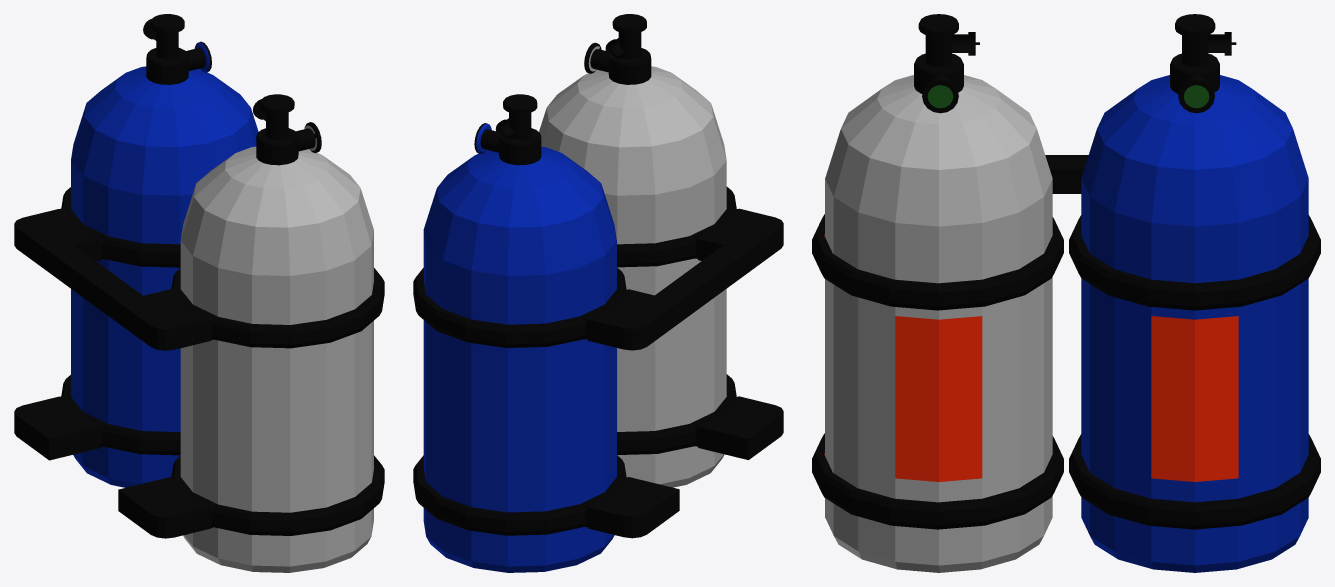
Rendered from Turbo.fbx.
3 renders of one model, left to right at view 1: azimuth 30°, elevation 25°; view 2: azimuth 150°, elevation 25°; view 3: azimuth 270°, elevation 25°, orthographic. The views are drawn at different scales.
Parts seen in each view (by area): view 1: Cylinder; view 2: Cylinder; view 3: Cylinder.
Boxes of the visible parts, left/top/right/bottom form: Cylinder: left=14, top=14, right=384, bottom=572; Cylinder: left=413, top=14, right=783, bottom=572; Cylinder: left=812, top=14, right=1320, bottom=572.
Size of the model in its own units: 58.01 by 103 by 94.29.
